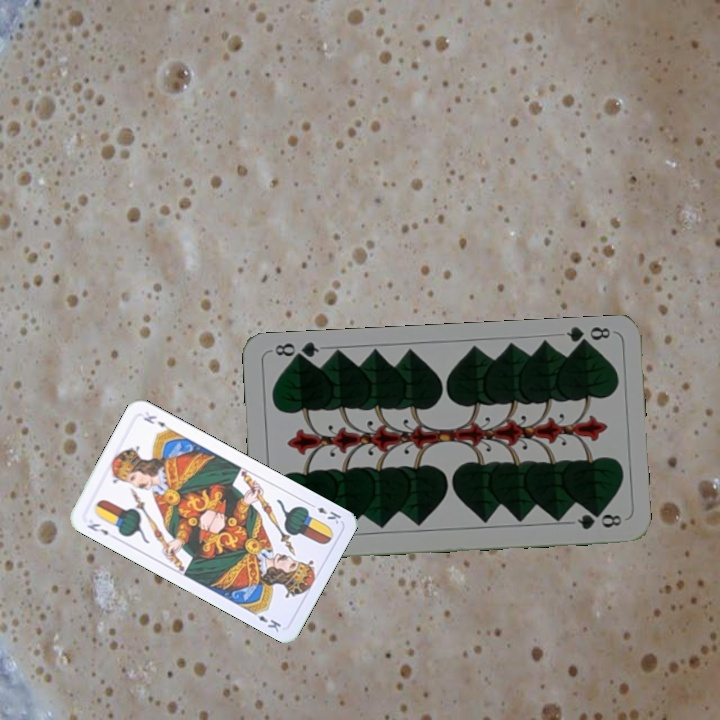EK: (305, 499, 344, 527), (83, 519, 111, 538)
G8: (562, 323, 613, 351)
